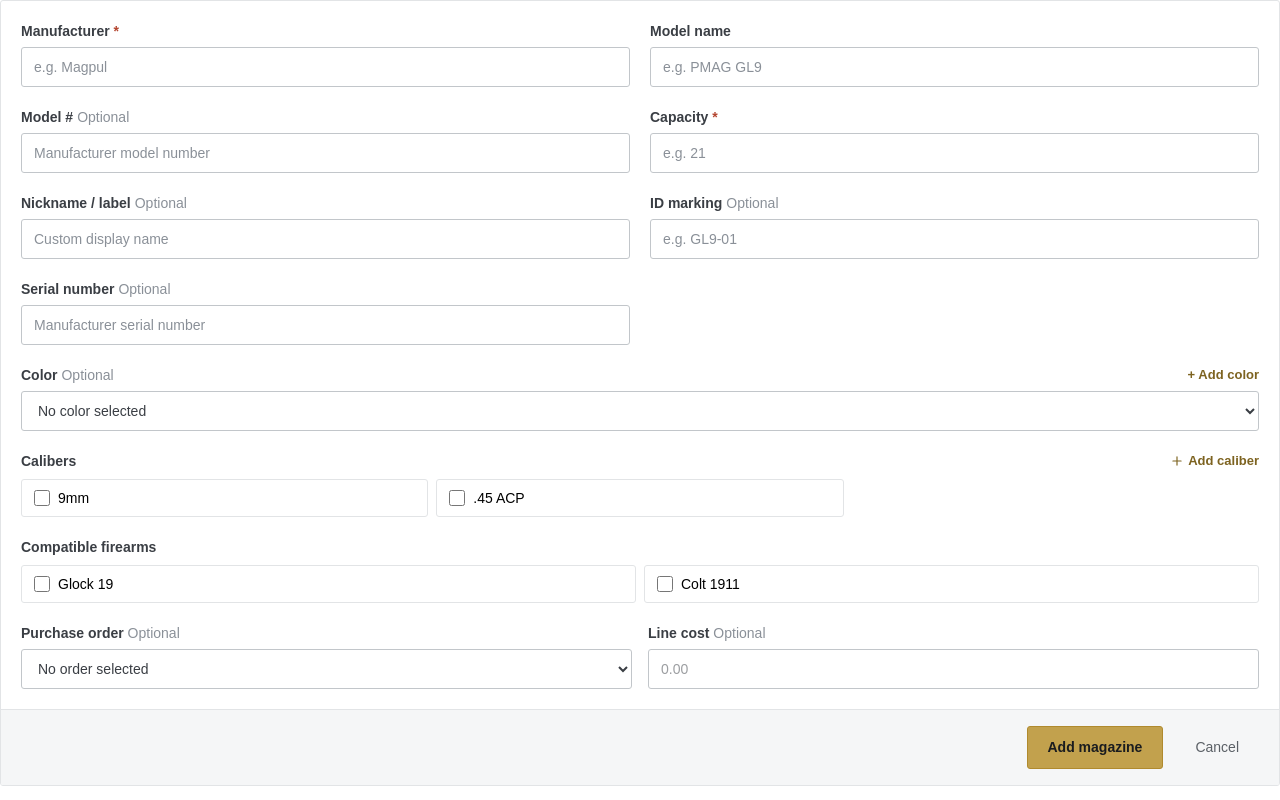
Test: MagazineForm › shows only firearms that use a selected caliber and allows a taller list
Step 1. Click the checkbox labelled "9mm" → (42, 498), box [34,490,50,506]
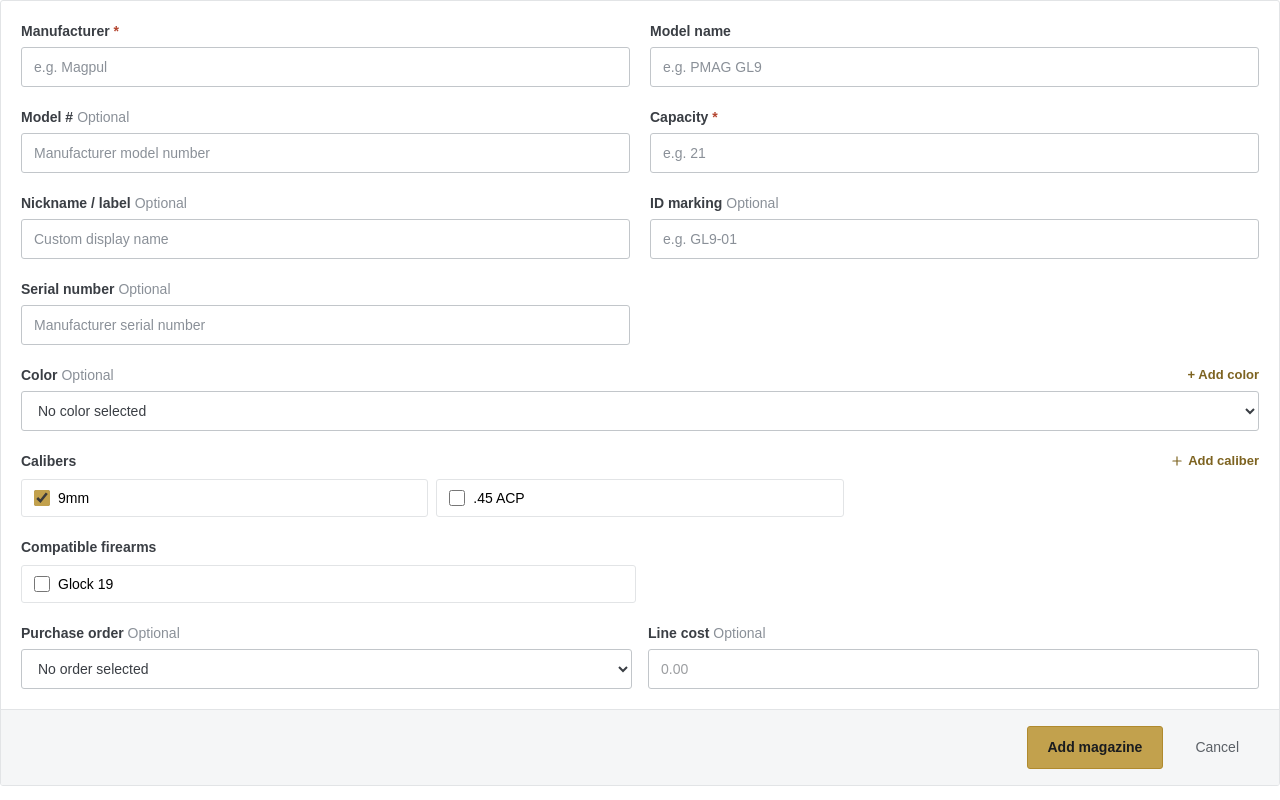
expect the element showing "Glock 19" is shown: met, box [21,565,636,603]
expect the label no longer shows "Colt 1911": met
